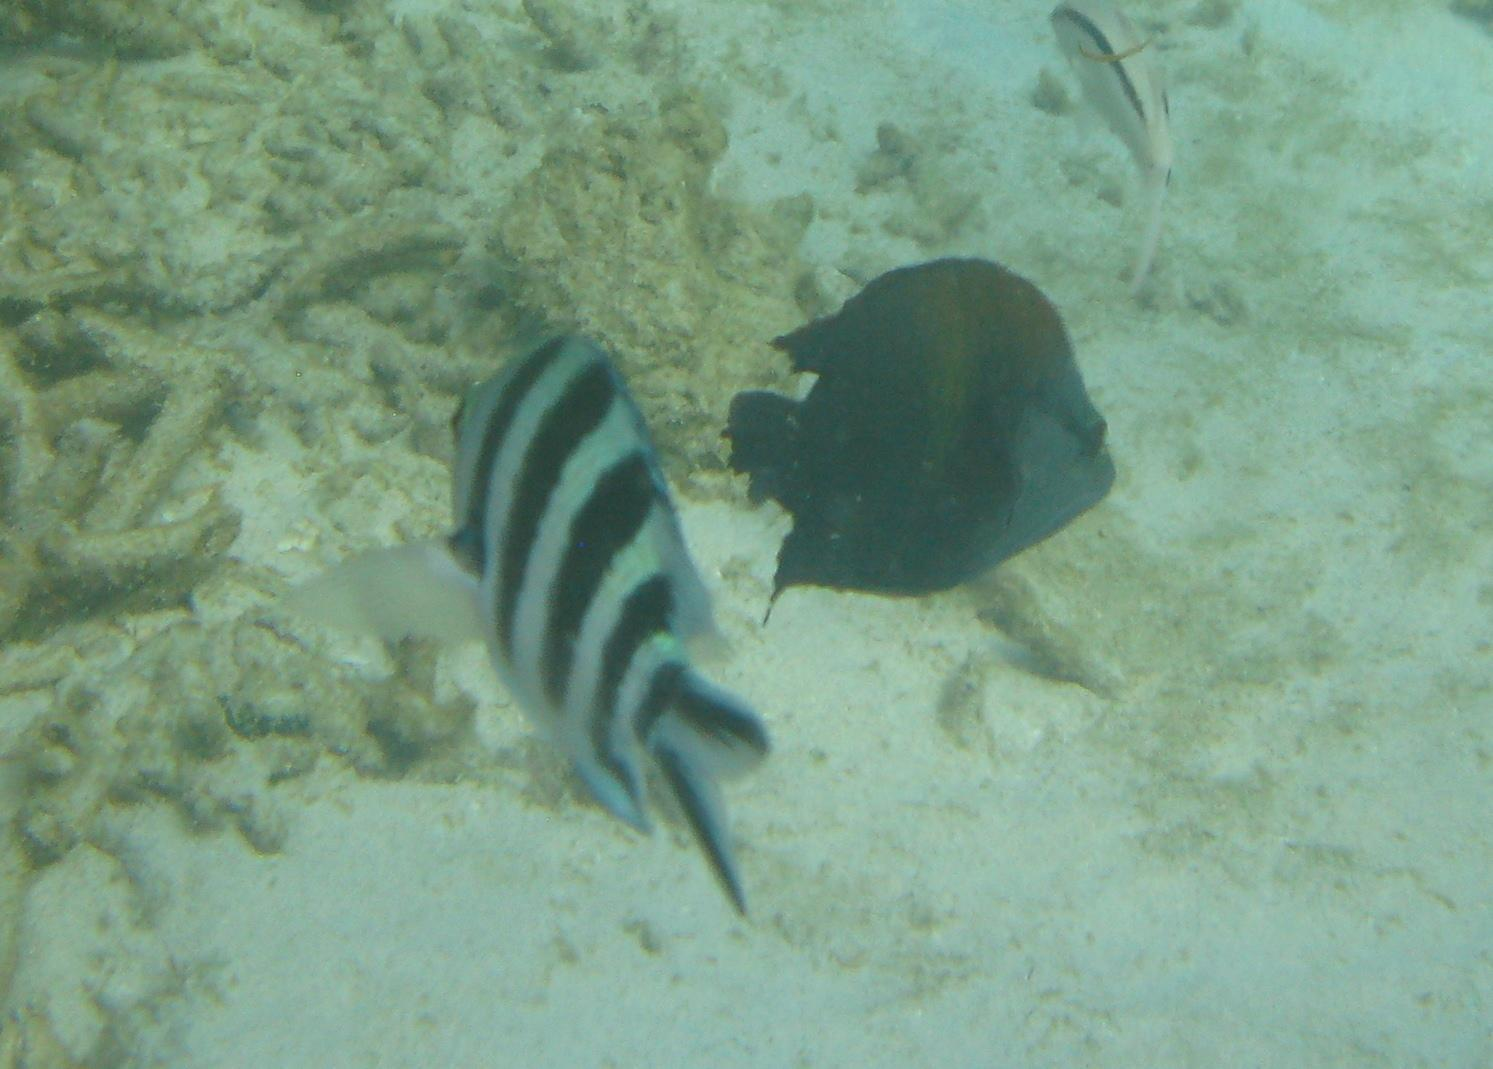Fish: (190, 235, 796, 939)
